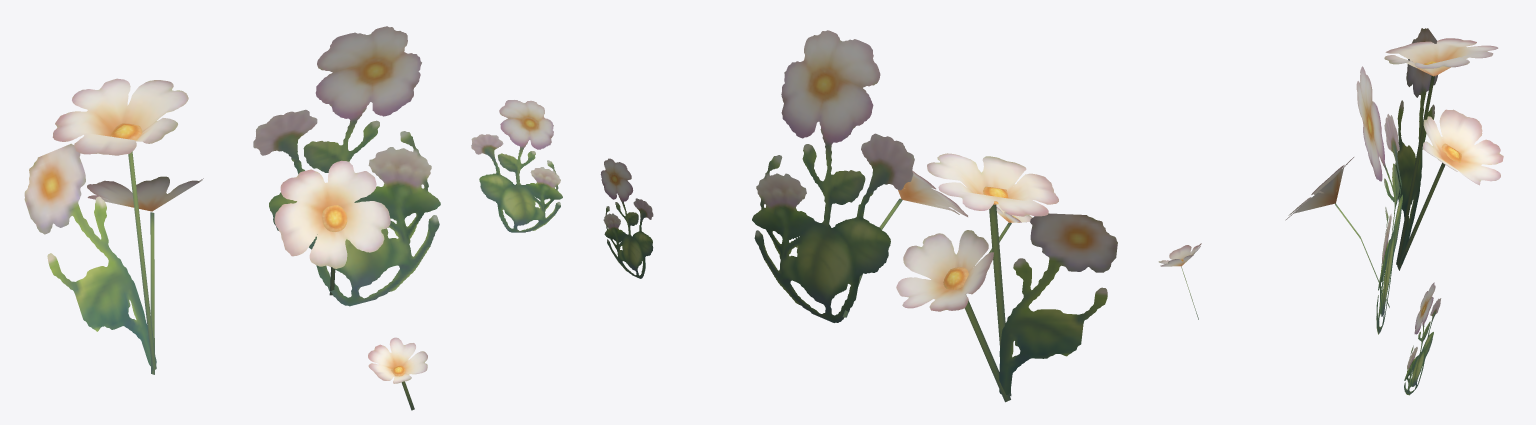
Rendered from Map_Choose_grass08.FBX.
The picture shows the model from 3 angles, left to right: view 1: azimuth 30°, elevation 25°; view 2: azimuth 150°, elevation 25°; view 3: azimuth 270°, elevation 25°; orthographic projection. The views are drawn at different scales.
Parts seen in each view (by area): view 1: Map_Choose_grass08; view 2: Map_Choose_grass08; view 3: Map_Choose_grass08.
Part boxes in pixels (x1=…): Map_Choose_grass08: x1=24, y1=26, x2=562, y2=410; Map_Choose_grass08: x1=600, y1=30, x2=1117, y2=402; Map_Choose_grass08: x1=1158, y1=28, x2=1503, y2=395.
Bounding box in the file's own units: 70.11 × 40.48 × 47.53.
Materials: 1 (1 with a texture image).
